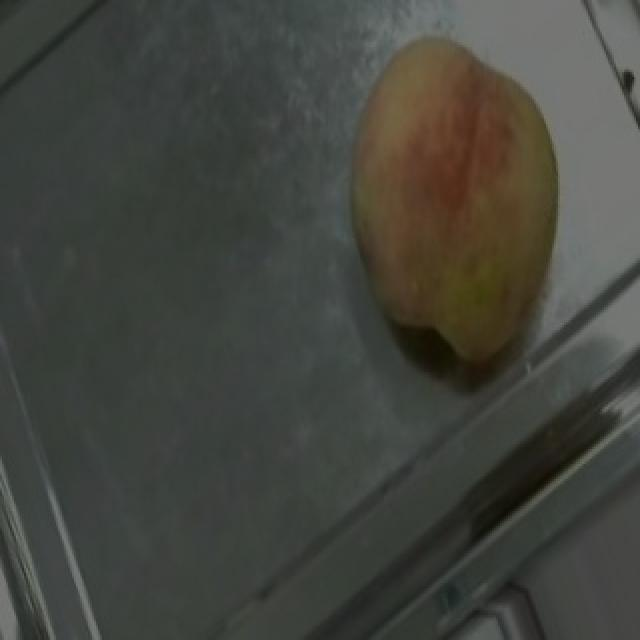Fruit: (302, 0, 612, 392)
